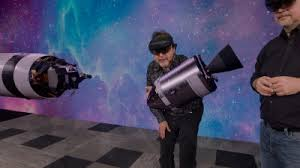hololens: (146, 39, 174, 57)
